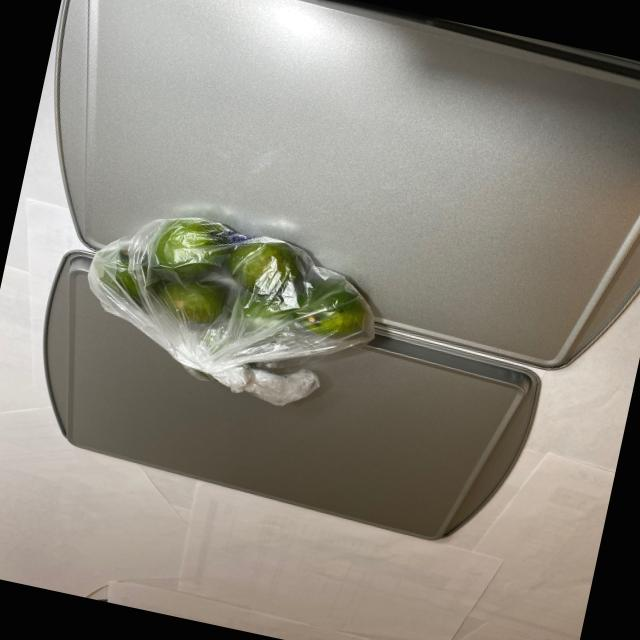lemon: (80, 199, 403, 368)
